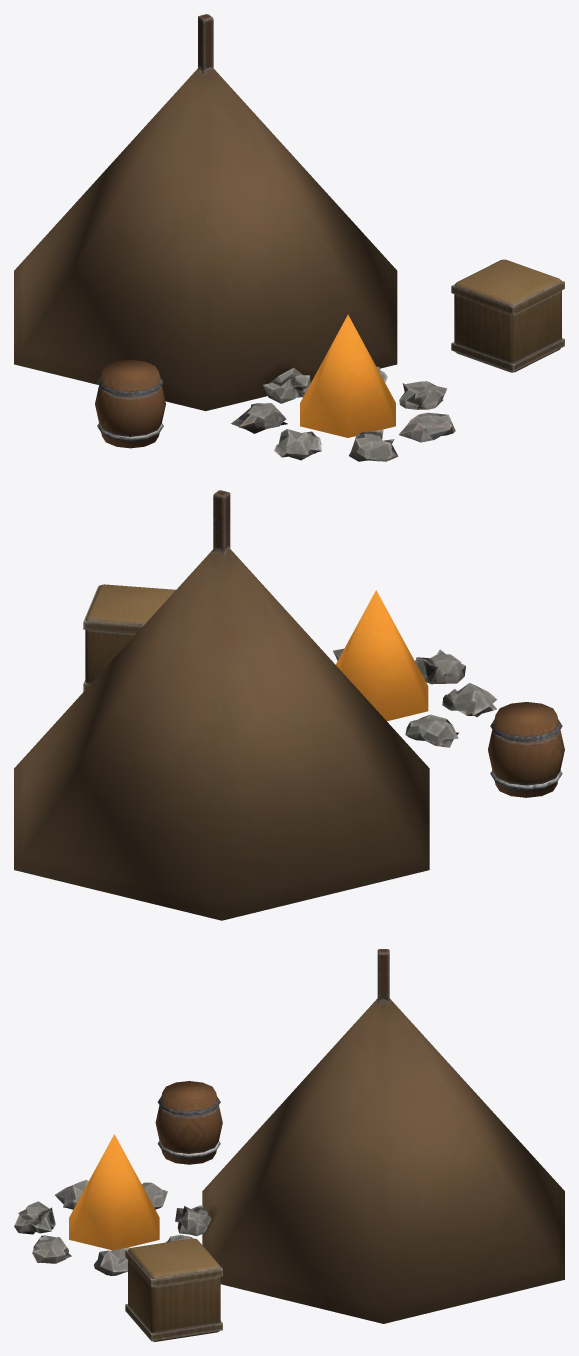
The model's file is camp.glb.
The picture shows the model from 3 angles, top to bottom: view 1: azimuth 30°, elevation 25°; view 2: azimuth 150°, elevation 25°; view 3: azimuth 270°, elevation 25°; orthographic projection. The views are drawn at different scales.
Visible parts, largest first — view 1: camp; view 2: camp; view 3: camp.
Boxes of the visible parts, x1,y1,x2,y2 form: camp: (14, 14, 564, 461); camp: (14, 490, 564, 920); camp: (14, 949, 564, 1341).
Size of the model in its own units: 3.25 by 2.1 by 3.68.
Materials: 5 (5 with a texture image).
